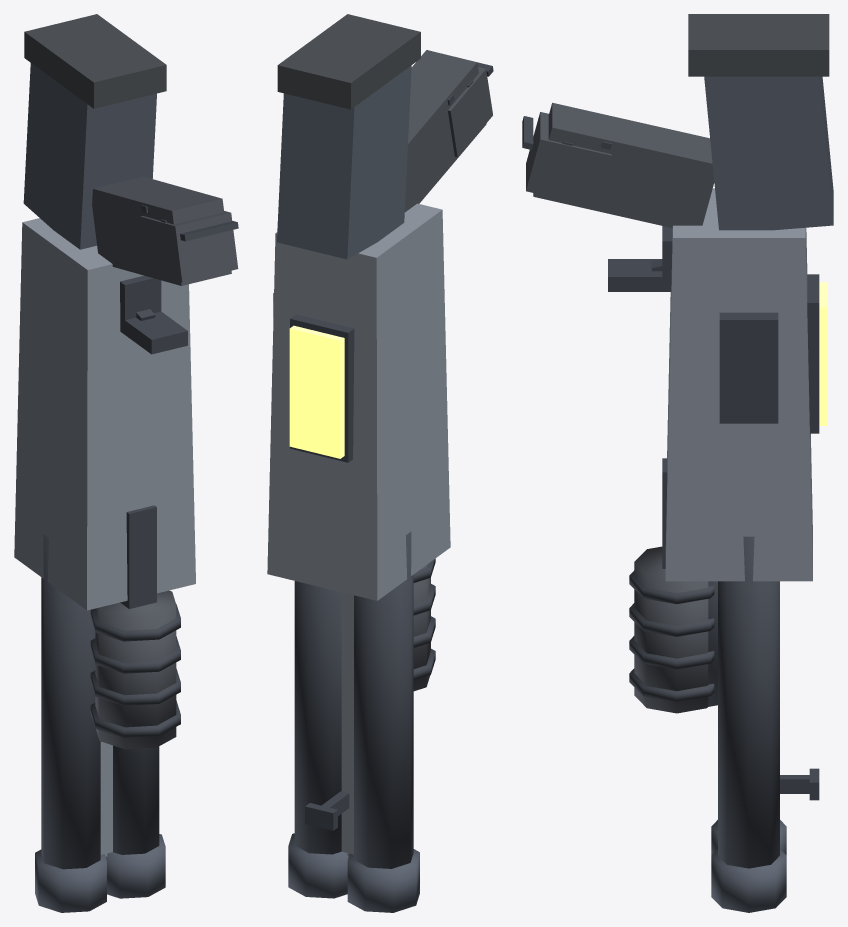
The model's file is wpn_ion_shotgun.glb.
The picture shows the model from 3 angles, left to right: view 1: azimuth 30°, elevation 25°; view 2: azimuth 150°, elevation 25°; view 3: azimuth 270°, elevation 25°; orthographic projection.
Parts seen in each view (by area): view 1: wpn_ion_shotgun; view 2: wpn_ion_shotgun; view 3: wpn_ion_shotgun.
Boxes of the visible parts, x1,y1,x2,y2 form: wpn_ion_shotgun: (14,14,238,912); wpn_ion_shotgun: (267,14,493,912); wpn_ion_shotgun: (522,14,833,912).
Size of the model in its own units: 0.091 by 0.574 by 0.19.
